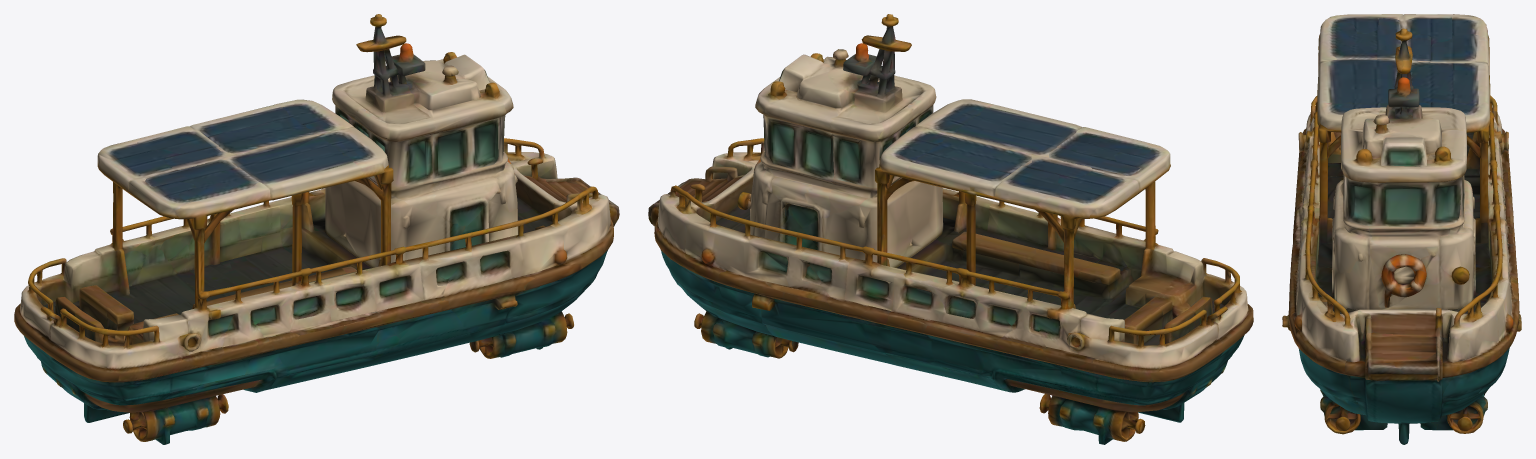
File: bv01-sunwake-ferry.glb
The picture shows the model from 3 angles, left to right: view 1: azimuth 30°, elevation 25°; view 2: azimuth 150°, elevation 25°; view 3: azimuth 270°, elevation 25°; orthographic projection.
Parts seen in each view (by area): view 1: tripo_node_ecf67cf6-fa6f-4c94-9f8b-75106cc98895; view 2: tripo_node_ecf67cf6-fa6f-4c94-9f8b-75106cc98895; view 3: tripo_node_ecf67cf6-fa6f-4c94-9f8b-75106cc98895.
Part boxes in pixels (left/top/right/bottom): tripo_node_ecf67cf6-fa6f-4c94-9f8b-75106cc98895: left=14, top=14, right=619, bottom=444; tripo_node_ecf67cf6-fa6f-4c94-9f8b-75106cc98895: left=648, top=14, right=1253, bottom=444; tripo_node_ecf67cf6-fa6f-4c94-9f8b-75106cc98895: left=1282, top=14, right=1521, bottom=444.
Bounding box in the file's own units: 0.9994 × 0.5877 × 0.3774.
1 material, 1 textured.
